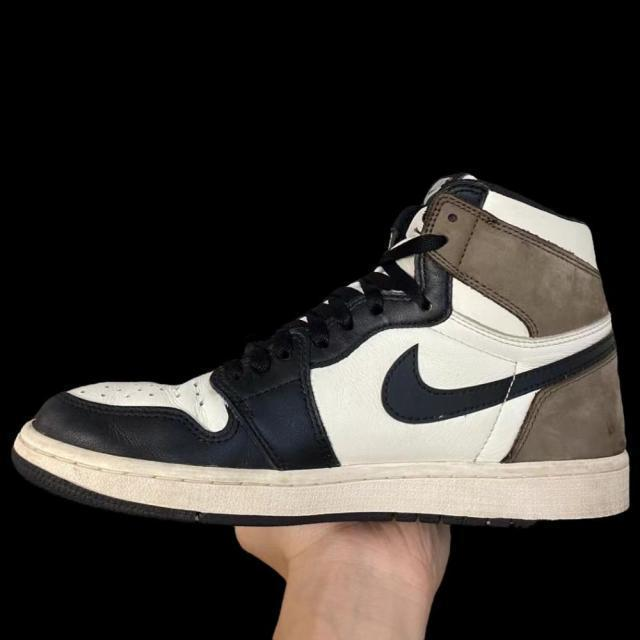nike original jordan 1: (11, 172, 634, 518)
